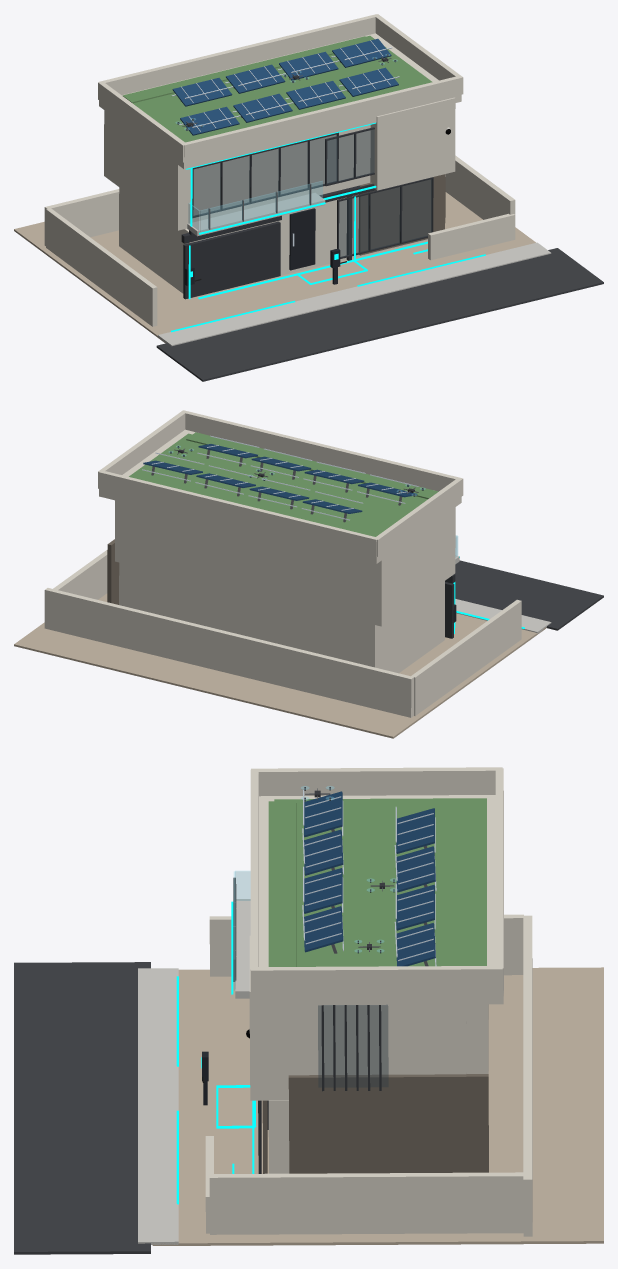
Rendered from casa_chidisima.glb.
3 views of the same model, one above another, from view 1: azimuth 30°, elevation 25°; view 2: azimuth 150°, elevation 25°; view 3: azimuth 270°, elevation 25° (orthographic). The views are drawn at different scales.
Visible parts, largest first — view 1: calle_asfalto_curva, volumen_principal_planta_alta, plataforma_concreto_exterior, volumen_principal_planta_baja, cubo_superior_derecho_sobresaliente, ventanal_superior_izquierdo_vidrio, azotea_jardin_verde, banqueta_frontal, parapeto_frente, garage_receso_negro, parapeto_fondo, ventanal_planta_baja_derecha_vidrio (+23 smaller); view 2: volumen_principal_planta_alta, muro_perimetral_fondo, volumen_principal_planta_baja, plataforma_concreto_exterior, azotea_jardin_verde, parapeto_fondo, calle_asfalto_curva, parapeto_frente, muro_perimetral_izquierdo, cubierta_techo_concreto, jardin_azotea_frente, parapeto_izq (+5 smaller); view 3: plataforma_concreto_exterior, calle_asfalto_curva, panel_lateral_oscuro_derecho, muro_perimetral_derecho, azotea_jardin_verde, cubo_superior_derecho_sobresaliente, banqueta_frontal, parapeto_der, cubierta_techo_concreto, parapeto_izq, jardin_azotea_frente, ventana_lateral_derecha_vertical (+16 smaller).
Part boxes in pixels (<box>): calle_asfalto_curva: <box>156,248,603,381</box>; volumen_principal_planta_alta: <box>104,110,370,230</box>; plataforma_concreto_exterior: <box>14,192,535,343</box>; volumen_principal_planta_baja: <box>119,174,445,293</box>; cubo_superior_derecho_sobresaliente: <box>370,97,455,190</box>; ventanal_superior_izquierdo_vidrio: <box>193,135,336,215</box>; azotea_jardin_verde: <box>133,35,432,142</box>; banqueta_frontal: <box>158,242,551,345</box>; parapeto_frente: <box>182,76,461,162</box>; garage_receso_negro: <box>183,221,280,299</box>; parapeto_fondo: <box>99,14,377,95</box>; ventanal_planta_baja_derecha_vidrio: <box>339,179,431,257</box>; volumen_principal_planta_alta: <box>115,500,455,626</box>; muro_perimetral_fondo: <box>44,588,413,717</box>; volumen_principal_planta_baja: <box>119,562,444,673</box>; plataforma_concreto_exterior: <box>14,593,546,738</box>; azotea_jardin_verde: <box>129,433,427,536</box>; parapeto_fondo: <box>99,470,378,556</box>; calle_asfalto_curva: <box>455,560,603,630</box>; parapeto_frente: <box>182,410,461,491</box>; muro_perimetral_izquierdo: <box>411,599,521,715</box>; cubierta_techo_concreto: <box>99,429,461,563</box>; jardin_azotea_frente: <box>186,432,438,498</box>; parapeto_izq: <box>376,477,463,556</box>; plataforma_concreto_exterior: <box>152,967,603,1245</box>; calle_asfalto_curva: <box>14,962,150,1254</box>; panel_lateral_oscuro_derecho: <box>288,1074,488,1173</box>; muro_perimetral_derecho: <box>209,1172,523,1234</box>; azotea_jardin_verde: <box>274,798,486,966</box>; cubo_superior_derecho_sobresaliente: <box>249,935,466,1100</box>; banqueta_frontal: <box>138,968,178,1244</box>; parapeto_der: <box>251,966,502,995</box>; cubierta_techo_concreto: <box>252,795,503,1005</box>; parapeto_izq: <box>251,767,502,796</box>; jardin_azotea_frente: <box>268,801,296,966</box>; ventana_lateral_derecha_vertical: <box>318,1005,388,1087</box>.
Size of the model in its own units: 18.5 by 7.21 by 15.95.
